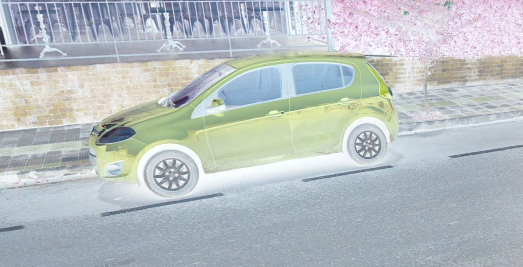car: (80, 50, 406, 204)
